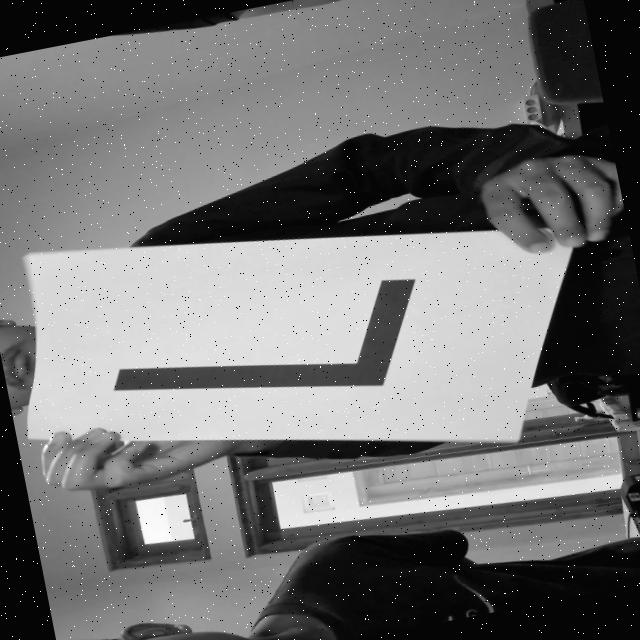l: (79, 248, 458, 447)
